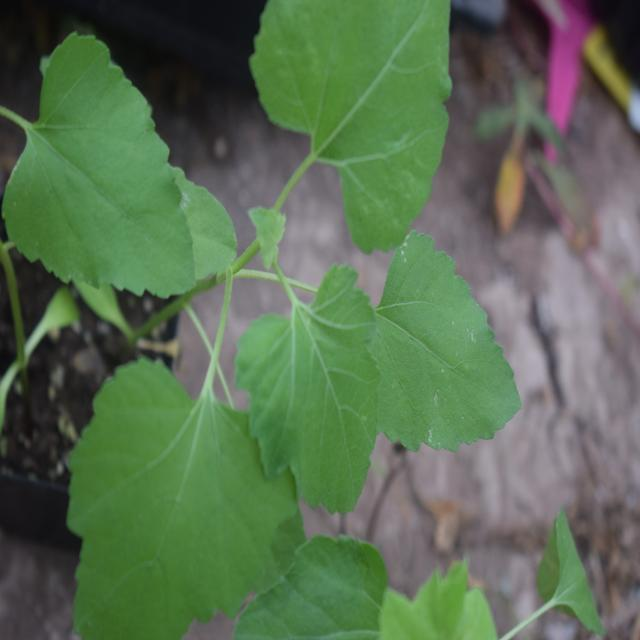cocklebur: (66, 28, 528, 604)
